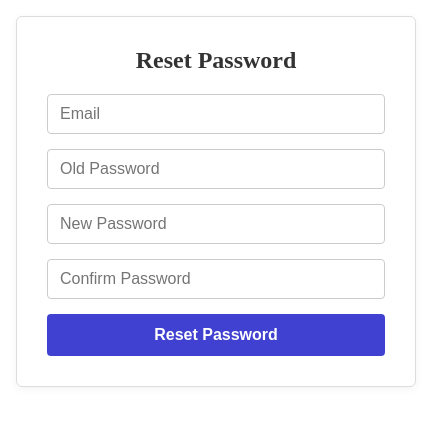
Test: ResetPassword › clears the error message on a subsequent valid submission
This screenshot has width=433, height=437.
Note: First trigger the error
Type "user@example.com" into the field with placeholder "Email".
click(216, 114); type("user@example.com")  # box [47,94,385,134]
Type "oldpass123" into the password field with placeholder "Old Password".
click(216, 169); type("oldpass123")  # box [47,149,385,189]
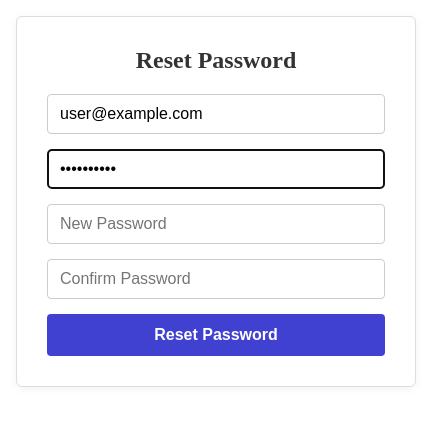
Type "newpass456" into the password field with placeholder "New Password".
click(216, 224); type("newpass456")  # box [47,204,385,244]
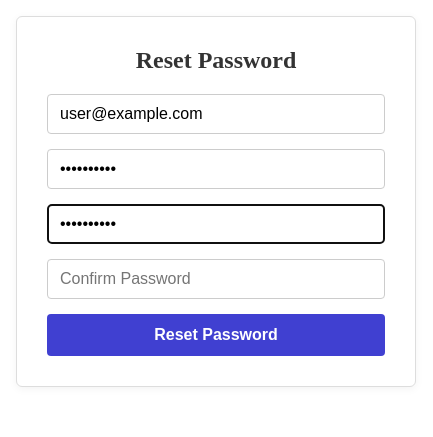
Type "wrong" into the password field with placeholder "Confirm Password".
click(216, 279); type("wrong")  # box [47,259,385,299]
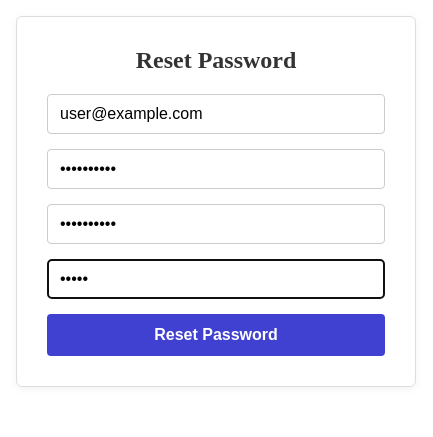
Click the button "Reset Password".
click(216, 335)  # box [47,314,385,356]
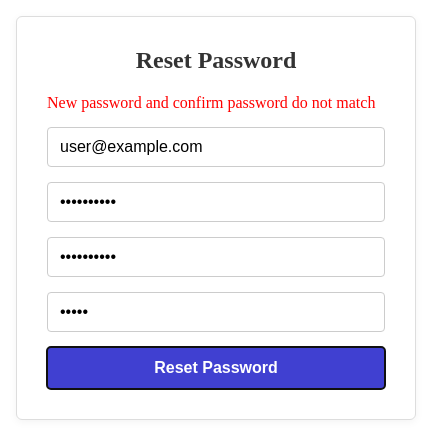
Check: the text "New password and confirm password do not match" is shown, box [47,94,385,112]
Note: Fix confirm password and resubmit
Type "newpass456" into the 3rd password field with placeholder "Confirm Password".
click(216, 312); type("newpass456")  # box [47,292,385,332]
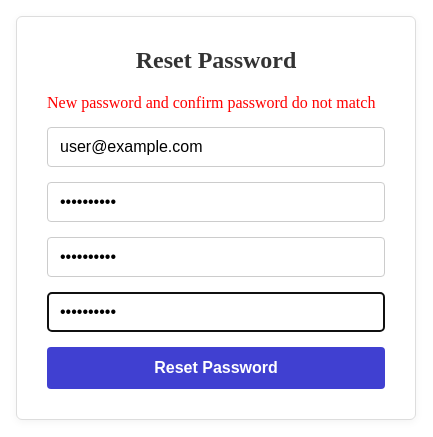
Click the button "Reset Password".
click(216, 368)  # box [47,347,385,389]
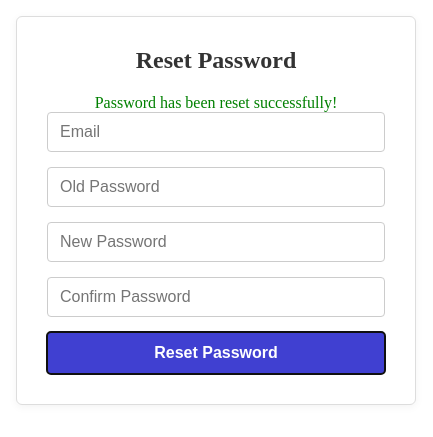
Check: the text "New password and confirm password do not match" is gone
